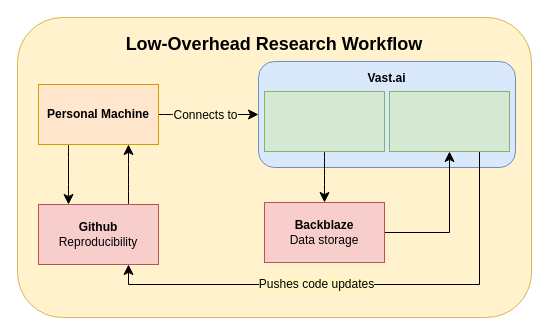
Some shapes in this 549 by 335 pixel diagram are drawn without their labels. The centre of each missing label's shape, as x and y in pixels:
Cheap Instance Preprocesses and formats data: the point at 324,121
Expensive Instance RTX Pro 6000X H100 SXM: the point at 449,121
